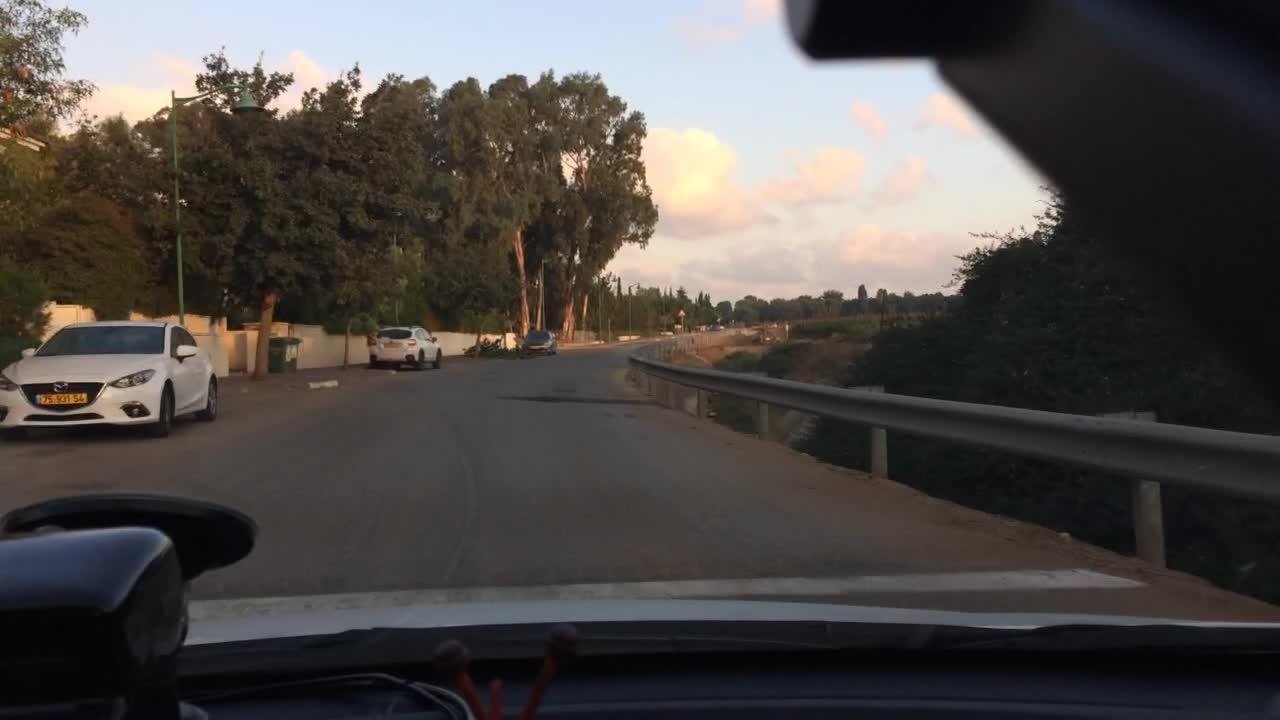Mazda: (45, 373, 73, 394)
